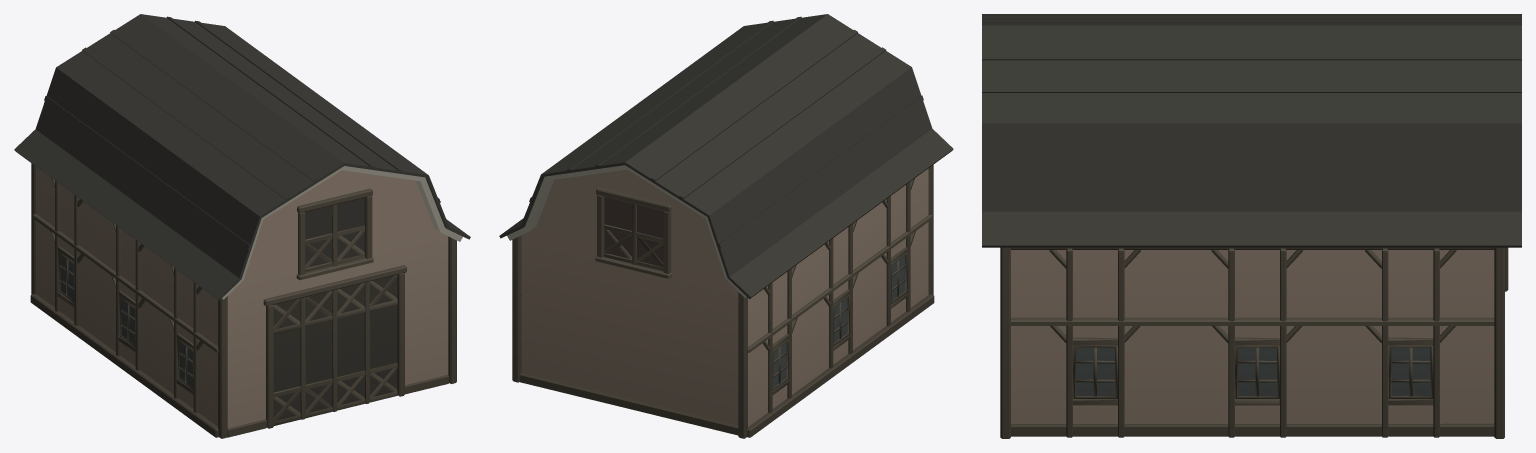
File: farm_barn_1.glb
The picture shows the model from 3 angles, left to right: view 1: azimuth 30°, elevation 25°; view 2: azimuth 150°, elevation 25°; view 3: azimuth 270°, elevation 25°; orthographic projection. The views are drawn at different scales.
Parts seen in each view (by area): view 1: farm_barn_1; view 2: farm_barn_1; view 3: farm_barn_1.
Boxes of the visible parts, x1,y1,x2,y2 form: farm_barn_1: (14, 14, 470, 438); farm_barn_1: (499, 14, 953, 438); farm_barn_1: (982, 14, 1521, 438).
Bounding box in the file's own units: 8.92 × 8.57 × 12.44.
Materials: 1 (1 with a texture image).
